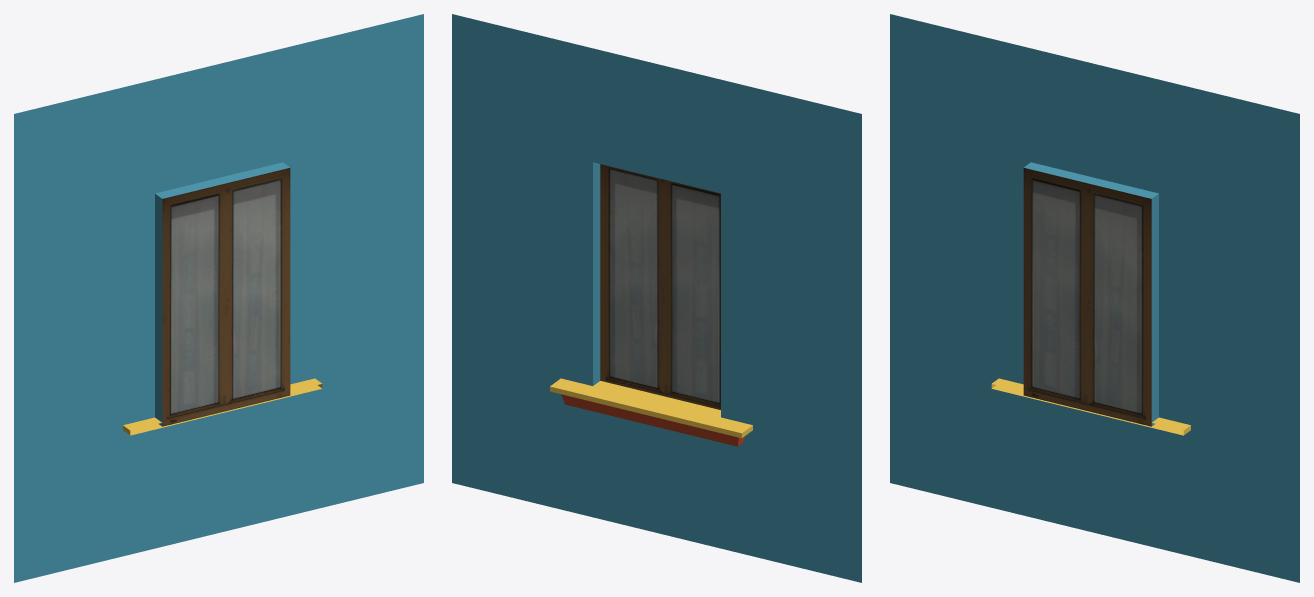
The model's file is FacadeRepeatA.FBX.
3 renders of one model, left to right at view 1: azimuth 30°, elevation 25°; view 2: azimuth 150°, elevation 25°; view 3: azimuth 330°, elevation 25°, orthographic.
Visible parts, largest first — view 1: FacadeRepeatA_Wall, FacadeRepeatA_Window; view 2: FacadeRepeatA_Wall, FacadeRepeatA_Window; view 3: FacadeRepeatA_Wall, FacadeRepeatA_Window.
Part boxes in pixels (left/top/right/bottom): FacadeRepeatA_Wall: left=14, top=14, right=423, bottom=582; FacadeRepeatA_Window: left=162, top=168, right=290, bottom=426; FacadeRepeatA_Wall: left=452, top=14, right=861, bottom=582; FacadeRepeatA_Window: left=600, top=164, right=720, bottom=409; FacadeRepeatA_Wall: left=890, top=14, right=1299, bottom=582; FacadeRepeatA_Window: left=1023, top=168, right=1151, bottom=426.
Bounding box in the file's own units: 320 × 350 × 25.
